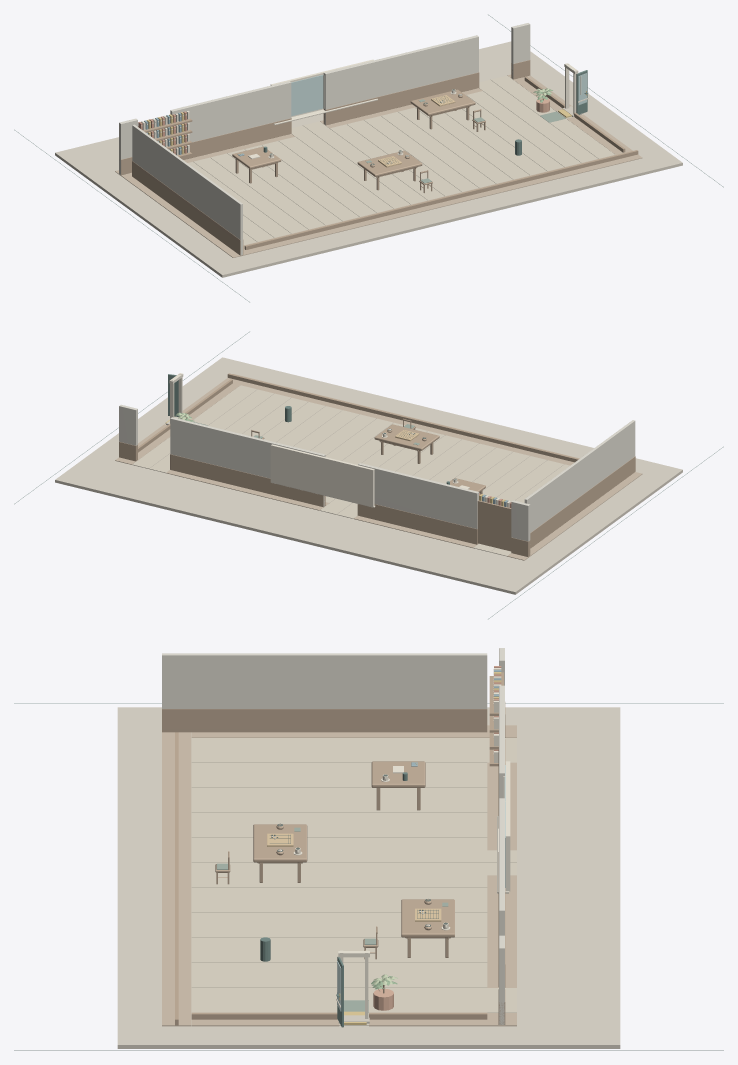
The model's file is room.glb.
3 views of the same model, one above another, from view 1: azimuth 30°, elevation 25°; view 2: azimuth 150°, elevation 25°; view 3: azimuth 270°, elevation 25° (orthographic). The views are drawn at different scales.
Parts seen in each view (by area): view 1: Campaign_paving, Campaign_stone, Campaign_plaster, Campaign_wood, Campaign_floor, Campaign_cream, Campaign_glass, Campaign_metal; view 2: Campaign_stone, Campaign_paving, Campaign_plaster, Campaign_wood, Campaign_floor, Campaign_cream, Campaign_metal; view 3: Campaign_paving, Campaign_stone, Campaign_plaster, Campaign_wood, Campaign_floor, Campaign_cream, Campaign_metal, Campaign_board.
Boxes of the visible parts, left/top/right/bottom form: Campaign_paving: left=187, top=75, right=614, bottom=245; Campaign_stone: left=55, top=41, right=682, bottom=277; Campaign_plaster: left=119, top=23, right=530, bottom=255; Campaign_wood: left=121, top=60, right=638, bottom=255; Campaign_floor: left=115, top=74, right=642, bottom=257; Campaign_cream: left=141, top=59, right=588, bottom=158; Campaign_glass: left=291, top=73, right=586, bottom=116; Campaign_metal: left=14, top=14, right=723, bottom=302; Campaign_stone: left=55, top=357, right=682, bottom=594; Campaign_paving: left=132, top=385, right=569, bottom=556; Campaign_plaster: left=119, top=404, right=635, bottom=541; Campaign_wood: left=119, top=373, right=635, bottom=556; Campaign_floor: left=115, top=374, right=642, bottom=560; Campaign_cream: left=169, top=373, right=510, bottom=507; Campaign_metal: left=14, top=331, right=723, bottom=619; Campaign_paving: left=191, top=738, right=516, bottom=1025; Campaign_stone: left=117, top=707, right=620, bottom=1048; Campaign_plaster: left=162, top=648, right=504, bottom=1024; Campaign_wood: left=162, top=672, right=505, bottom=1025; Campaign_floor: left=162, top=725, right=516, bottom=1026; Campaign_cream: left=293, top=668, right=510, bottom=1018; Campaign_metal: left=14, top=703, right=723, bottom=1050; Campaign_board: left=267, top=833, right=441, bottom=921.
Size of what is drawn, in the model's own units: 22.22 by 2.45 by 19.2.
